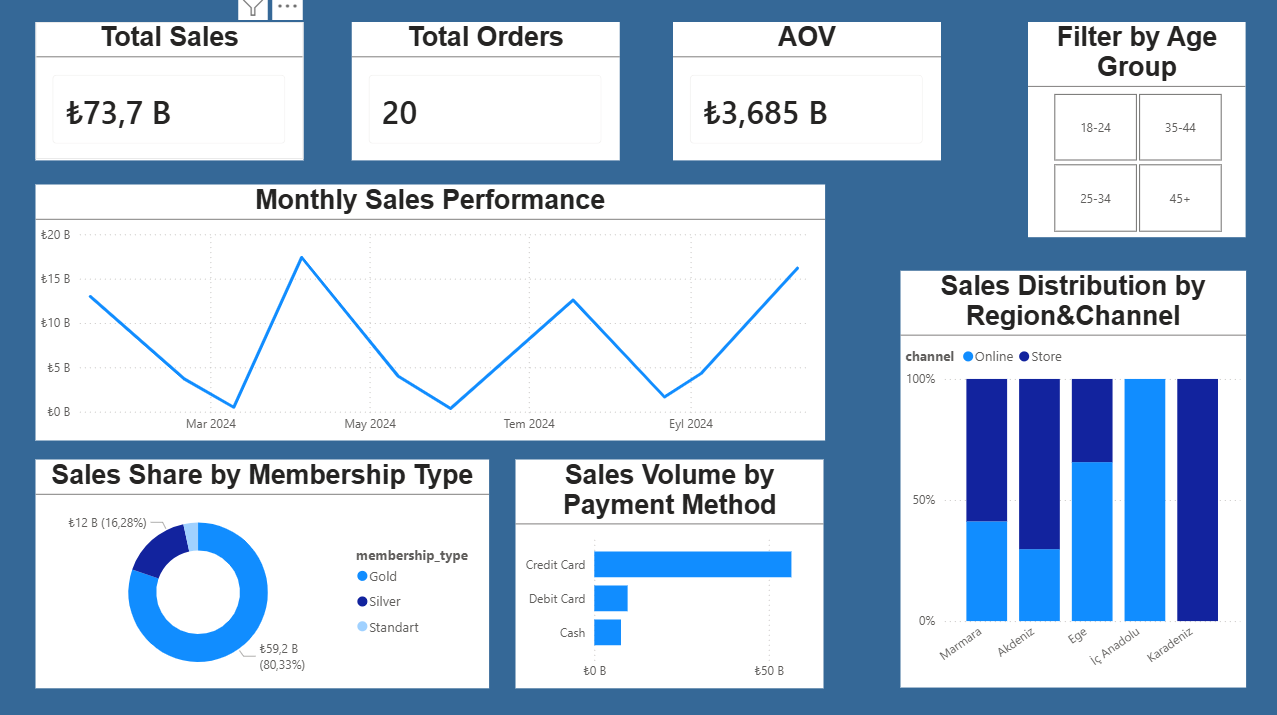

The dashboard page shown, as its layout file describes it:
{"tool":"powerbi","page":{"name":"1. sayfa","canvas":[1280,720],"ordinal":0},"visuals":[{"type":"cardVisual","title":"Total Sales","fields":{"Data":["transactions.total_sales"]},"box":[36.9,25,267.9,138.1],"z":0},{"type":"cardVisual","title":"Total Orders","fields":{"Data":["transactions.total_orders"]},"box":[353.6,25,267.9,138.1],"z":1},{"type":"cardVisual","title":"AOV","fields":{"Data":["transactions.AOV"]},"box":[675,25,267.9,138.1],"z":2},{"type":"hundredPercentStackedColumnChart","title":"Sales Distribution by Region&Channel","fields":{"Category":["customers.region"],"Y":["transactions.total_sales"],"Series":["transactions.channel"]},"box":[902.4,273.8,345.2,416.7],"z":3},{"type":"donutChart","title":"Sales Share by Membership Type","fields":{"Y":["transactions.total_sales"],"Category":["customers.membership_type"]},"box":[36.9,461.9,453.6,228.6],"z":4},{"type":"slicer","title":"Filter by Age Group","fields":{"Values":["customers.age_group"]},"box":[1029.8,25,217.9,215.5],"z":5},{"type":"lineChart","title":"Monthly Sales Performance","fields":{"Category":["calendar.Date"],"Y":["transactions.total_sales"]},"box":[36.9,186.9,789.3,256],"z":6},{"type":"clusteredBarChart","title":"Sales Volume by Payment Method","fields":{"Category":["transactions.payment_method"],"Y":["transactions.total_sales"]},"box":[517.9,461.9,308.3,228.6],"z":7}]}

Visuals, with their boxes in screenshot pixels (x1, y1, x2, y2), scaled from the page's 1280x720 canvas onto the 1277x715 screenshot:
"Total Sales" cardVisual: [37,25,304,162]
"Total Orders" cardVisual: [353,25,620,162]
"AOV" cardVisual: [673,25,941,162]
"Sales Distribution by Region&Channel" hundredPercentStackedColumnChart: [900,272,1245,686]
"Sales Share by Membership Type" donutChart: [37,459,489,686]
"Filter by Age Group" slicer: [1027,25,1245,239]
"Monthly Sales Performance" lineChart: [37,186,824,440]
"Sales Volume by Payment Method" clusteredBarChart: [517,459,824,686]
